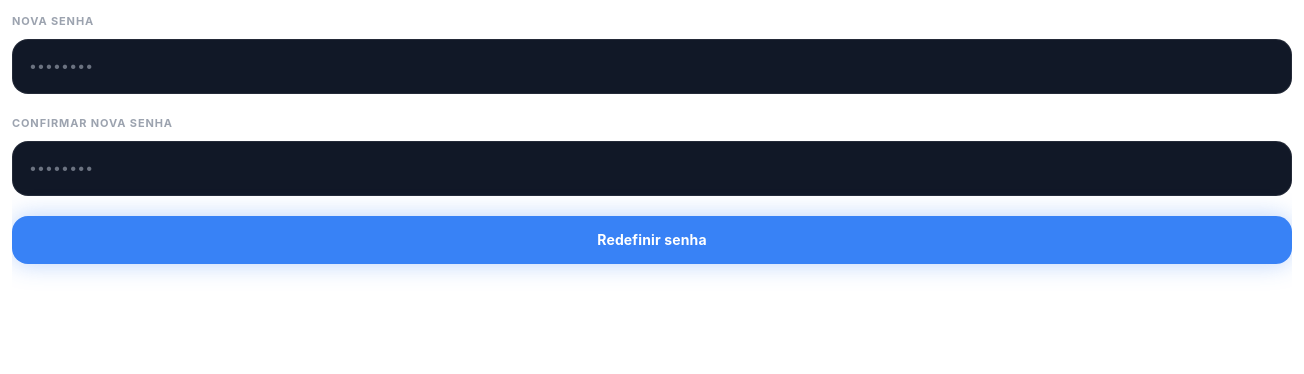
Test case: <ResetPasswordForm /> › valida senha curta
Type "123" into the password field with placeholder "••••••••". click: (652, 66)
box: x1=29 y1=52 x2=1275 y2=81
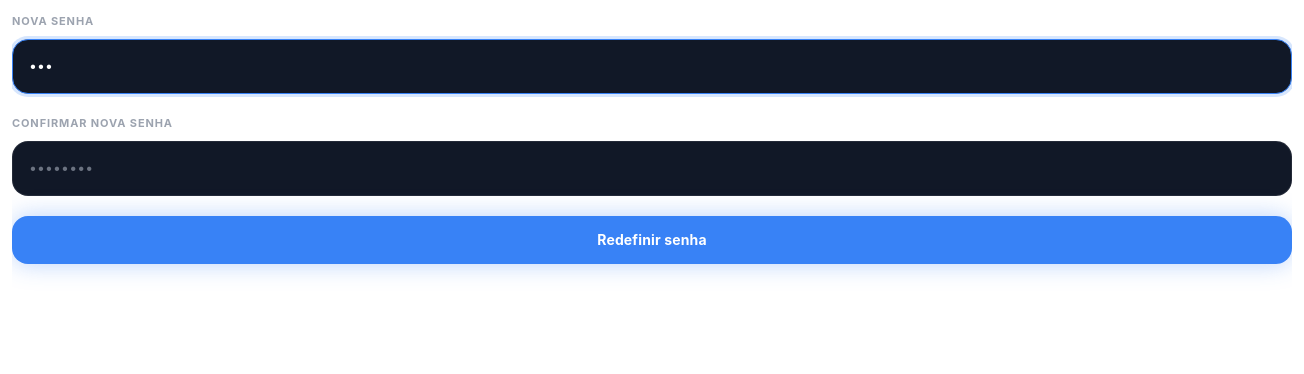
Click the button "Redefinir senha". click: (652, 240)
box: x1=12 y1=216 x2=1292 y2=264
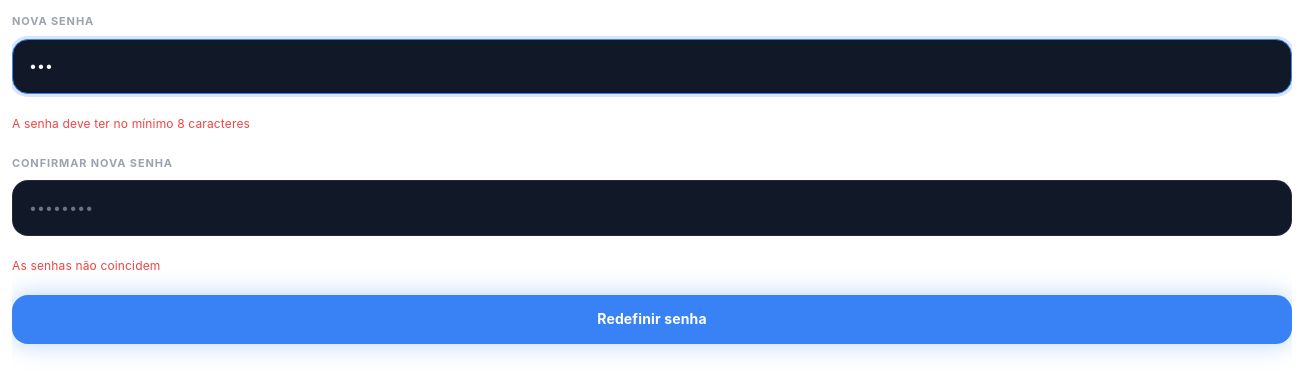
Expected: the text "A senha deve ter no mínimo 8 caracteres" is shown, x1=12 y1=116 x2=250 y2=131
